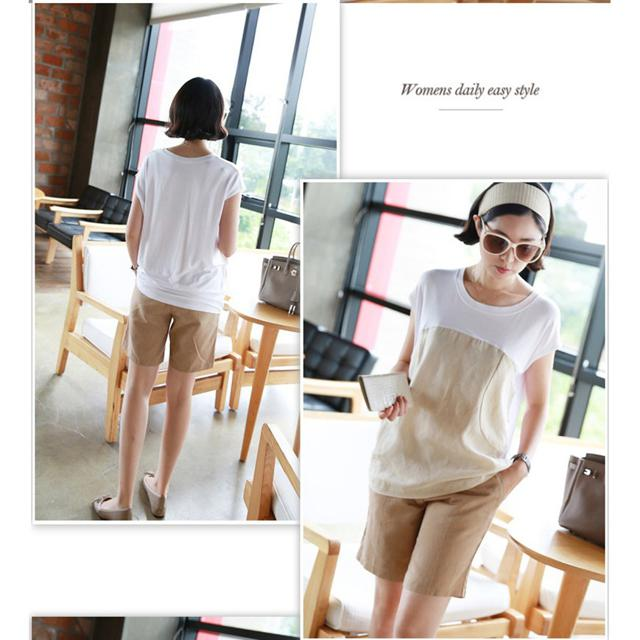Shorts: (355, 470, 501, 601), (124, 281, 218, 374)
